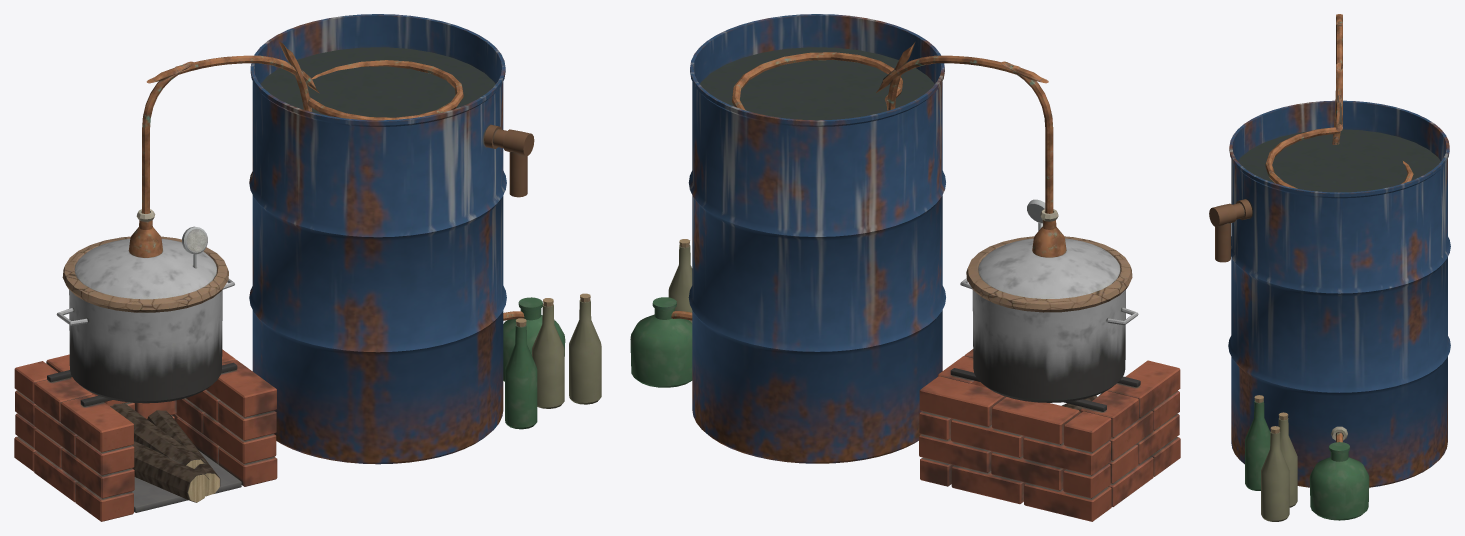
File: alambique.glb
3 views of the same model, side by side, from view 1: azimuth 30°, elevation 25°; view 2: azimuth 150°, elevation 25°; view 3: azimuth 270°, elevation 25° (orthographic). The views are drawn at different scales.
Visible parts, largest first — view 1: tambor, fornalha, panela, garrafas, serpentina; view 2: tambor, fornalha, panela, garrafas, serpentina; view 3: tambor, garrafas, serpentina.
Part boxes in pixels (<box>): tambor: <box>249,14,534,464</box>; fornalha: <box>14,349,277,521</box>; panela: <box>56,209,234,403</box>; garrafas: <box>503,293,601,429</box>; serpentina: <box>142,41,524,320</box>; tambor: <box>688,14,945,463</box>; fornalha: <box>919,349,1180,521</box>; panela: <box>960,199,1138,402</box>; garrafas: <box>630,239,692,387</box>; serpentina: <box>671,42,1053,320</box>; tambor: <box>1209,100,1450,487</box>; garrafas: <box>1245,395,1369,521</box>; serpentina: <box>1265,14,1413,442</box>.
Bounding box in the file's own units: 1.35 × 1.01 × 0.6473.
3 materials, 2 textured.
